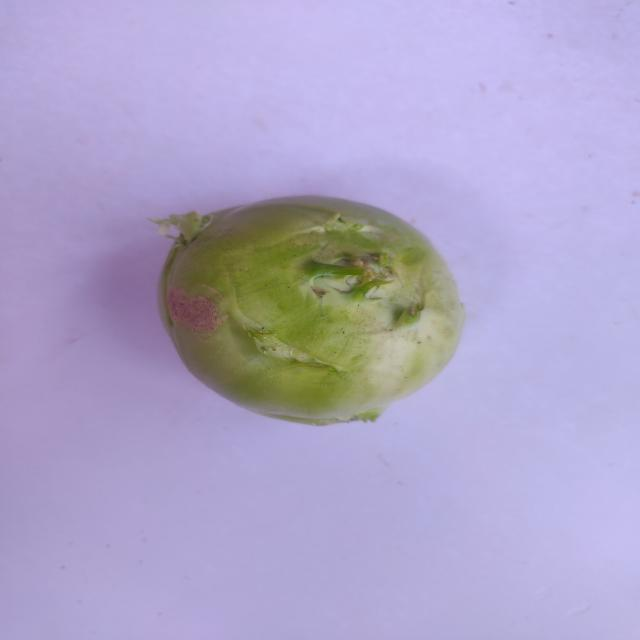Turnip: (150, 180, 498, 453)
